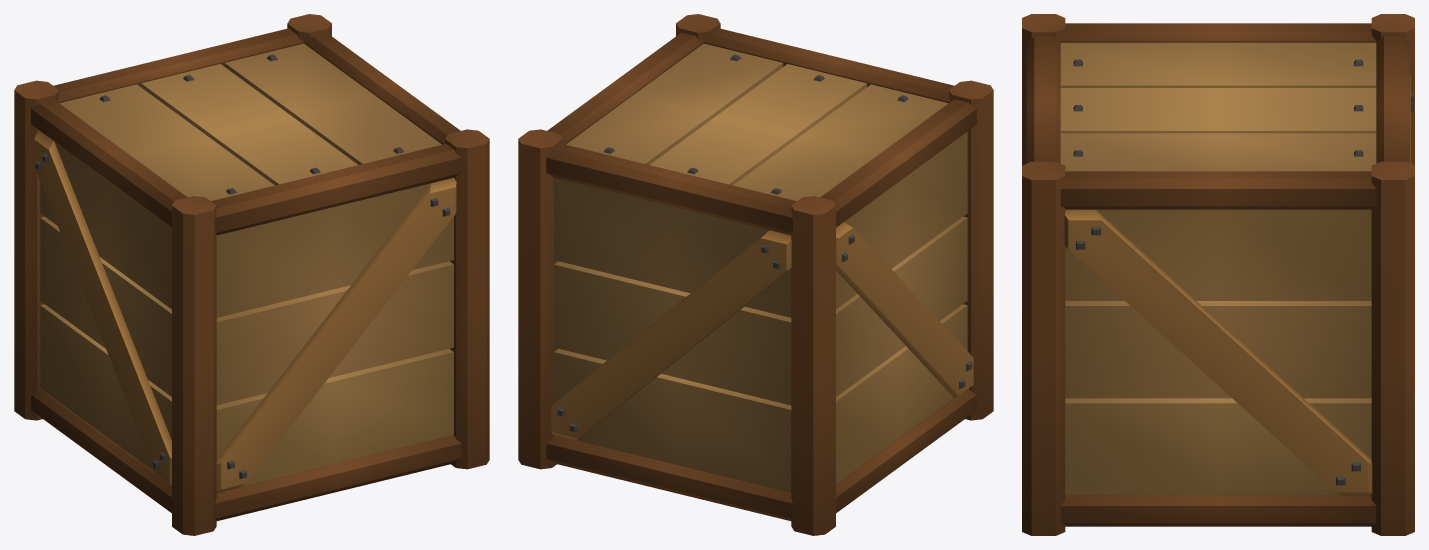
File: box_normal.glb
The picture shows the model from 3 angles, left to right: view 1: azimuth 30°, elevation 25°; view 2: azimuth 150°, elevation 25°; view 3: azimuth 270°, elevation 25°; orthographic projection. The views are drawn at different scales.
Parts seen in each view (by area): view 1: box_normal; view 2: box_normal; view 3: box_normal.
Boxes of the visible parts, x1,y1,x2,y2 form: box_normal: (14,14,489,535); box_normal: (518,14,993,535); box_normal: (1022,14,1414,535).
Bounding box in the file's own units: 1 × 1 × 1.
